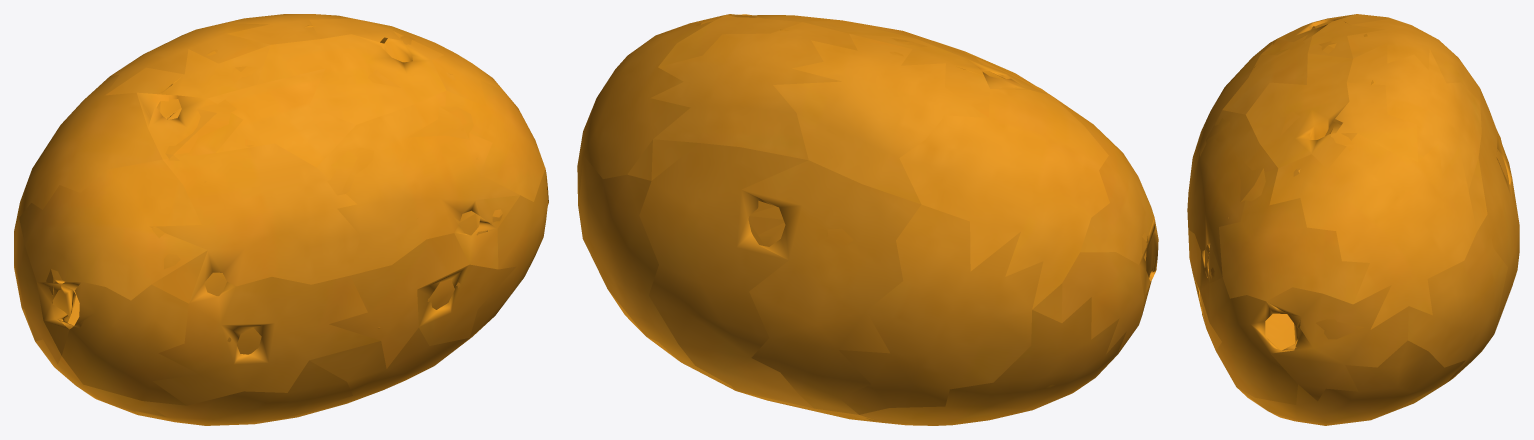
Rendered from potato.glb.
The picture shows the model from 3 angles, left to right: view 1: azimuth 30°, elevation 25°; view 2: azimuth 150°, elevation 25°; view 3: azimuth 270°, elevation 25°; orthographic projection. The views are drawn at different scales.
Size of the model in its own units: 1 by 0.6777 by 0.6172.
1 material, 1 textured.
